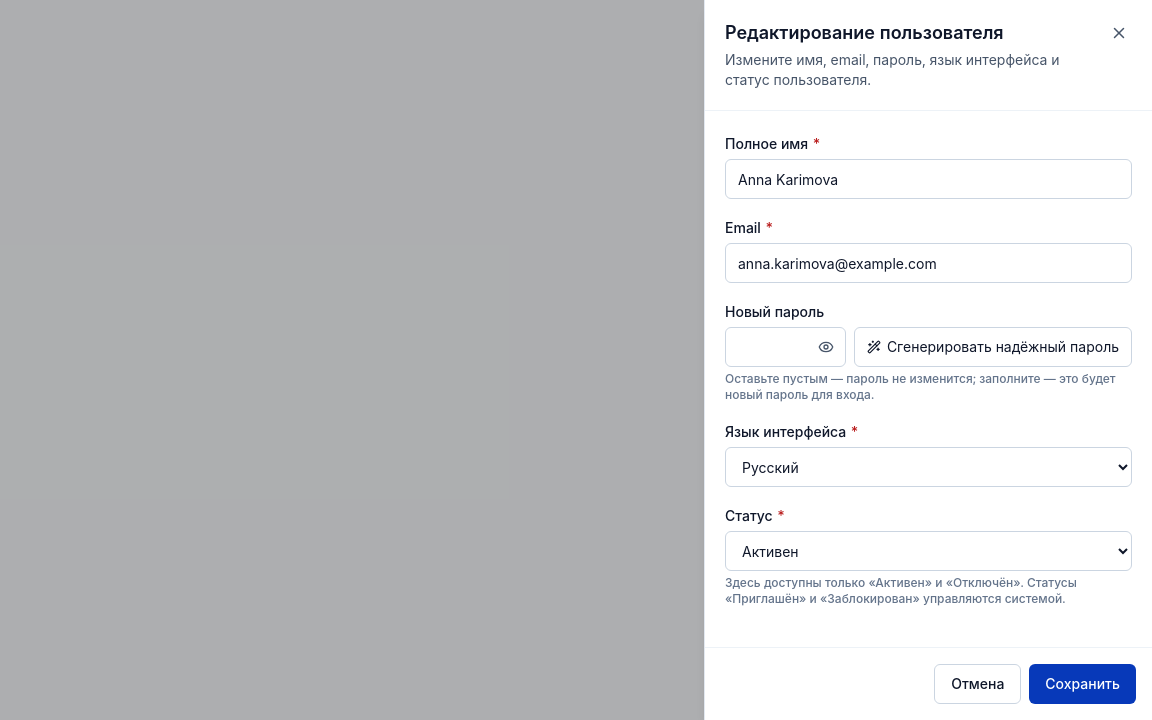
<EditUserDialog /> › maps USER_NO_IDP_ACCOUNT to a friendly inline error
In the password field with test id "edit-password": x=785, y=347 [725,327,846,367], type "Str0ng!Passw0rd"
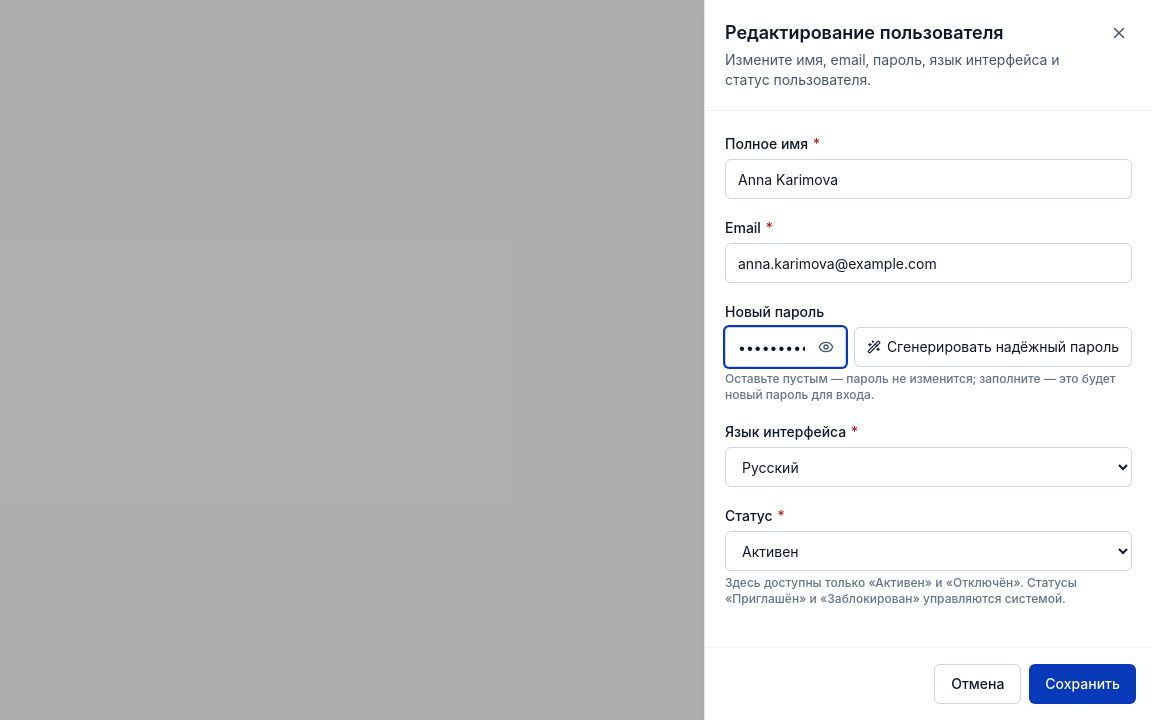
Click the button "Сохранить": x=1083, y=684 [1029,664,1136,704]
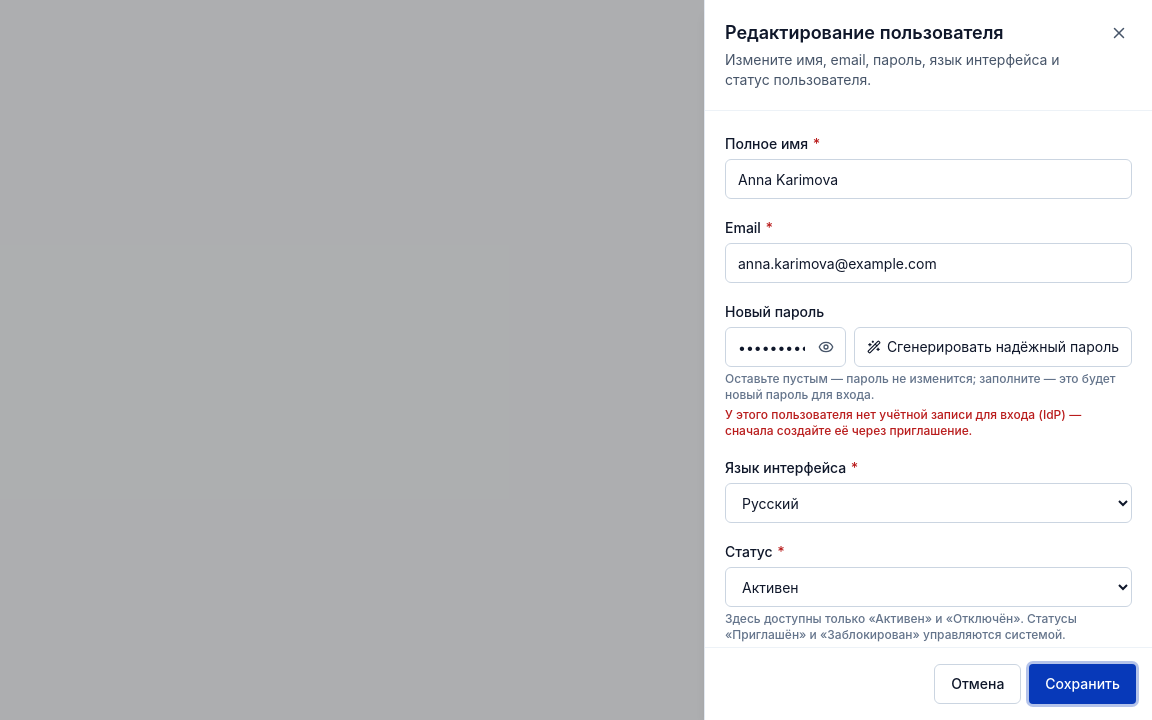
Now the message is shown, box [725,407,1132,439]
